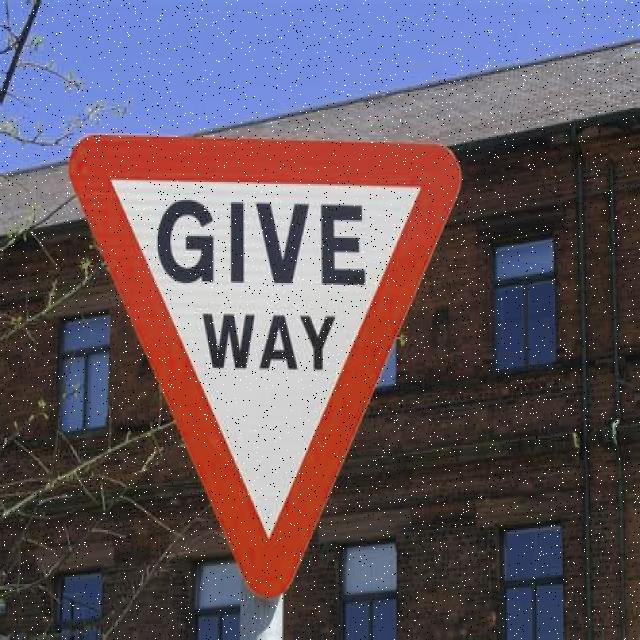giveway: (76, 134, 463, 576)
